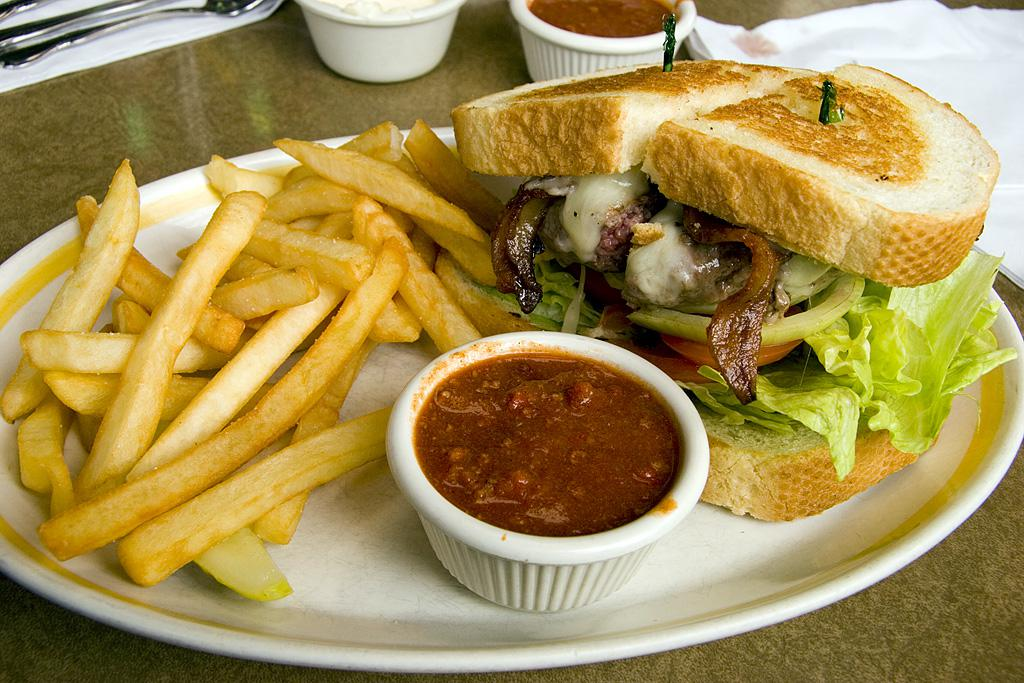French fries: (0, 105, 522, 614)
